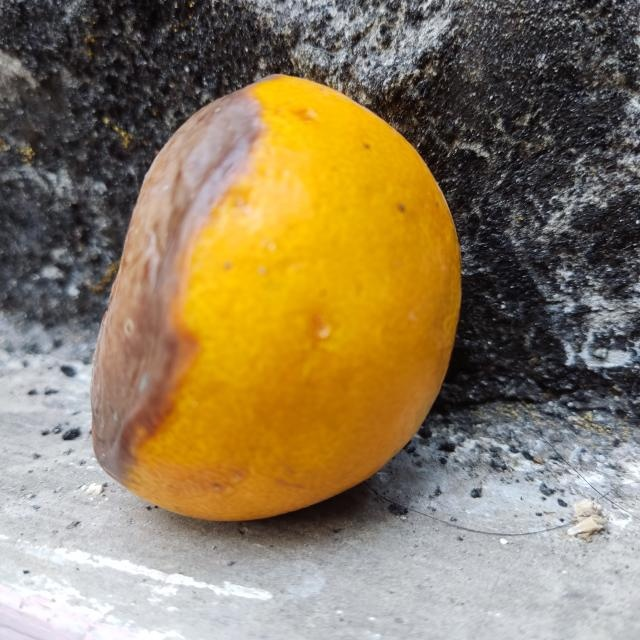agrume: (88, 73, 460, 524)
